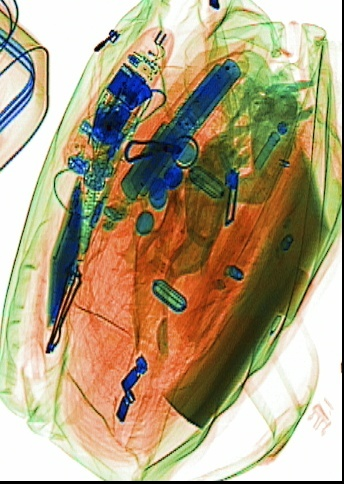powerbank: (115, 53, 247, 204)
